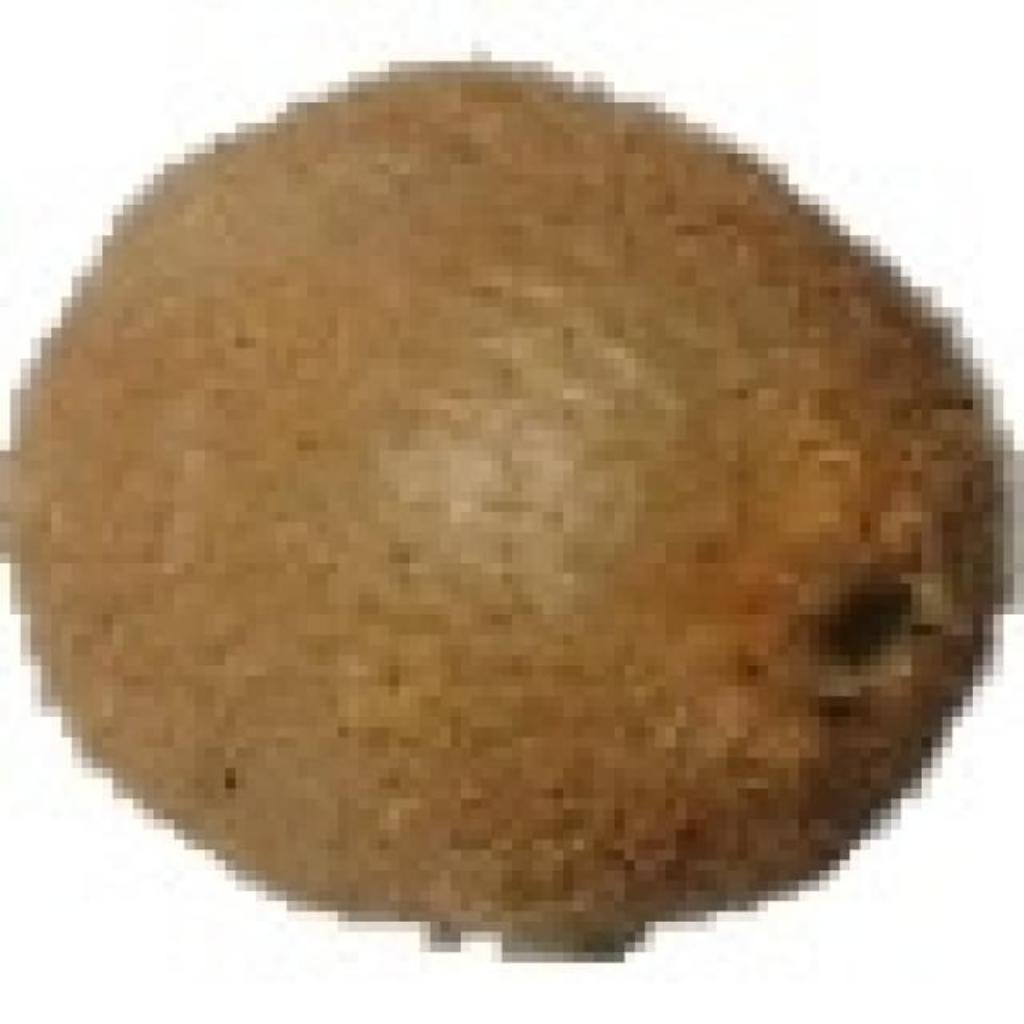kiwi: (10, 51, 983, 932)
